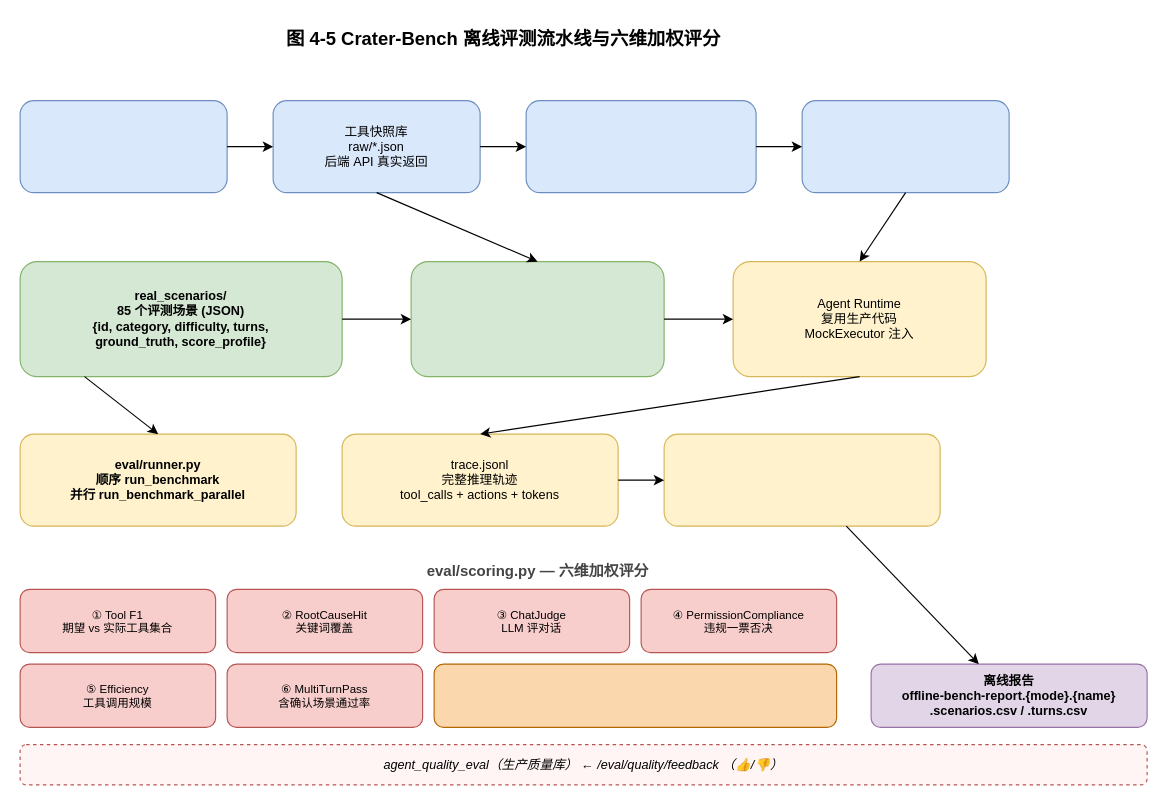
This 1167x805 diagram has some shape labels left out. The shapes that lost their labels are listed below. From the top down, each one's centre as x and y in pixels, then its label:
(x=123, y=146): 真实运行数据 K8s API + PostgreSQL 采集 SQL / shell
(x=640, y=146): 人工标注 期望工具序列 (must/nice) 答案关键要素 / 风险等级
(x=905, y=146): 3-5 次 Mops 试跑 盲审 + 第三人裁决
(x=537, y=318): Mock Backend FastAPI · 与生产 API 等价 按 scenario 回放快照
(x=801, y=479): LLM-as-Judge ChatJudge (对话质量) ChainJudge (任务完成度)
(x=635, y=695): 按 score_profile 加权 + 难度归一化 easy×1.0 / medium×1.2 / hard×1.5
